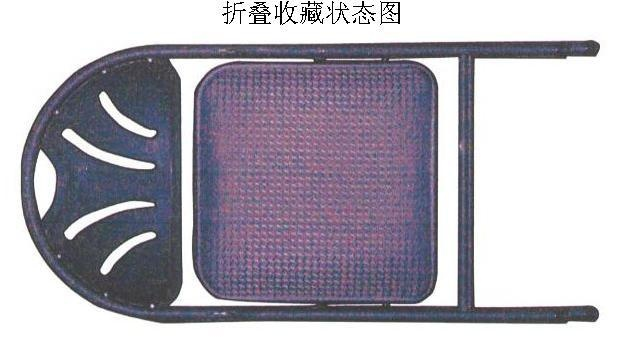obstacle: (22, 41, 598, 322)
